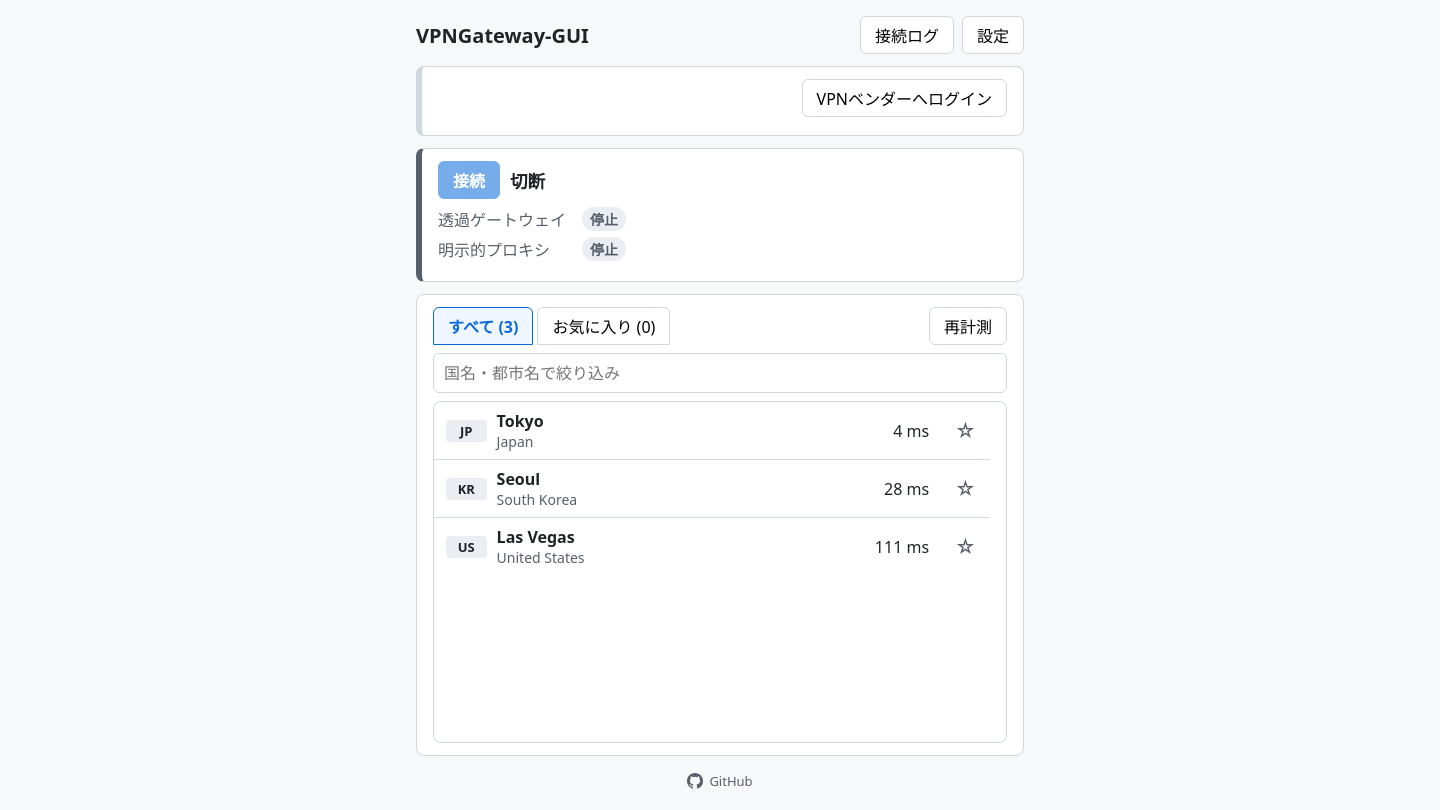
Test: App › リストで選択した接続先へlocationIdで接続し、APIが返す接続国（と接続先）を表示、切断で消える
Expected: the text "切断" is shown, [510,168,545,192]
Click the radio button labelled "US Las Vegas United States 111 ms": (466, 546) [434,518,941,575]
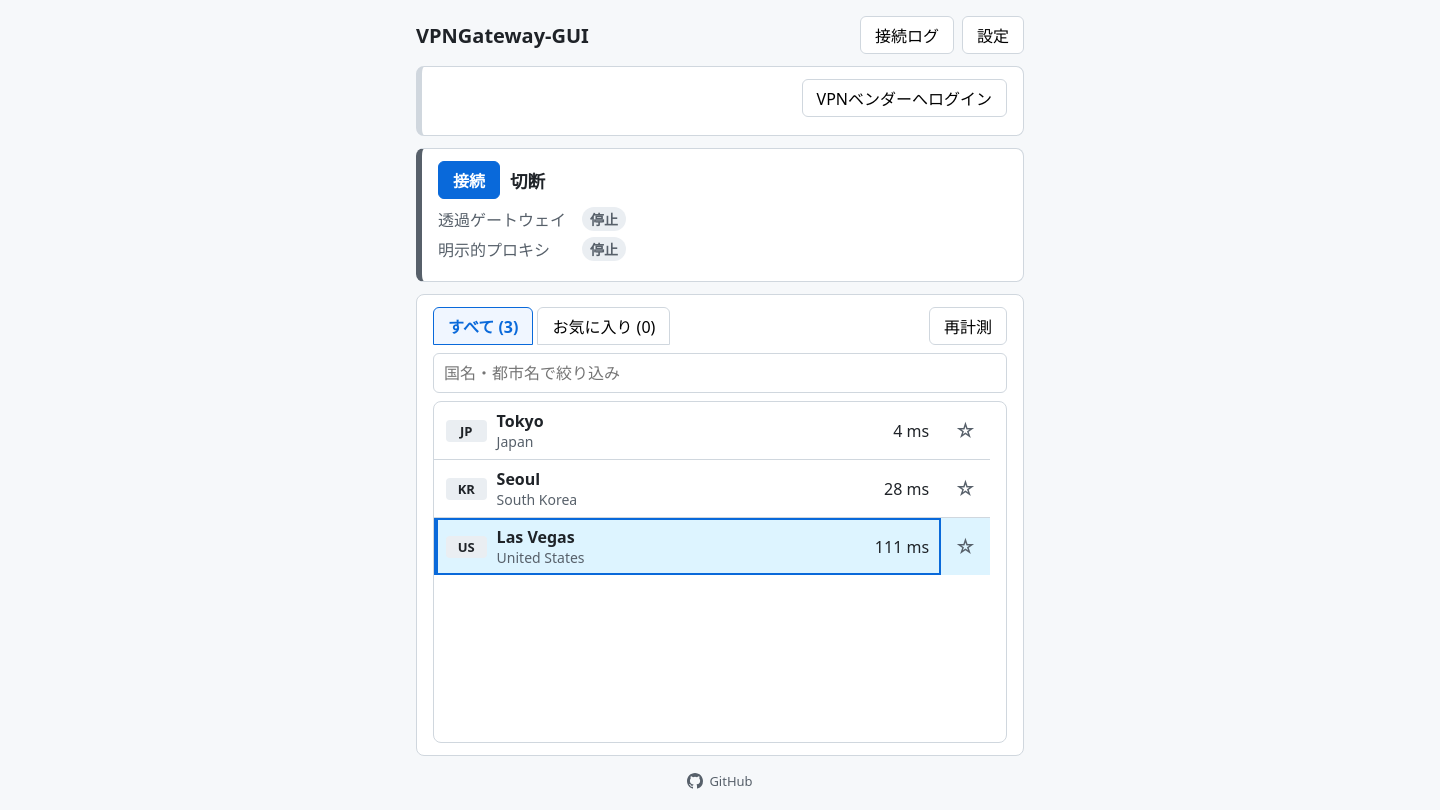
Click the button "接続": (469, 180) [438,161,500,199]
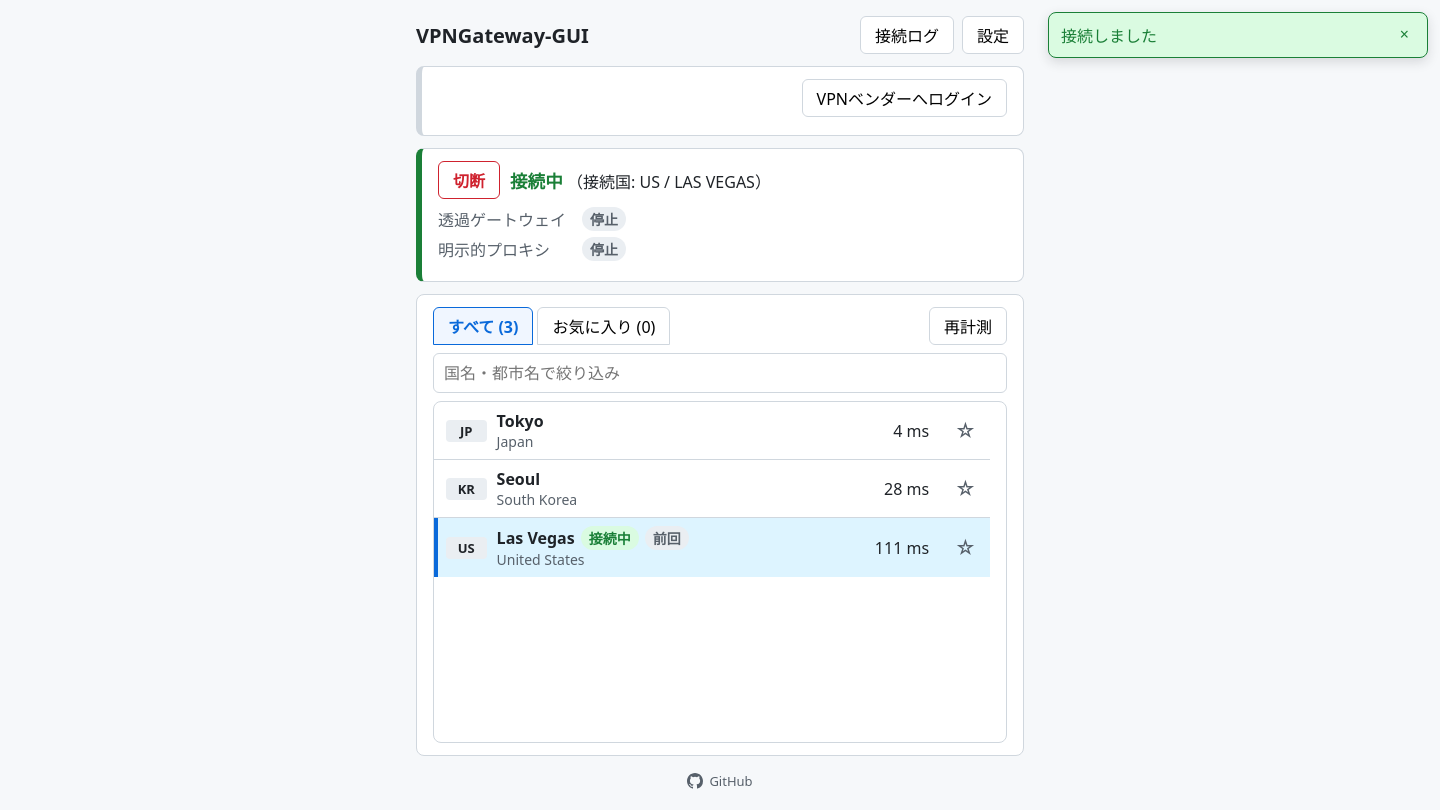
Expected: the text "（接続国: US / LAS VEGAS）" is shown, [563,170,771,192]
Expected: the message shows "接続しました", [1061,25,1157,47]
Expected: the list item "US Las Vegas 接続中 前回 United States 111 ms ☆" is shown, [434,518,990,577]
Click the button "切断": (469, 180) [438,161,500,199]
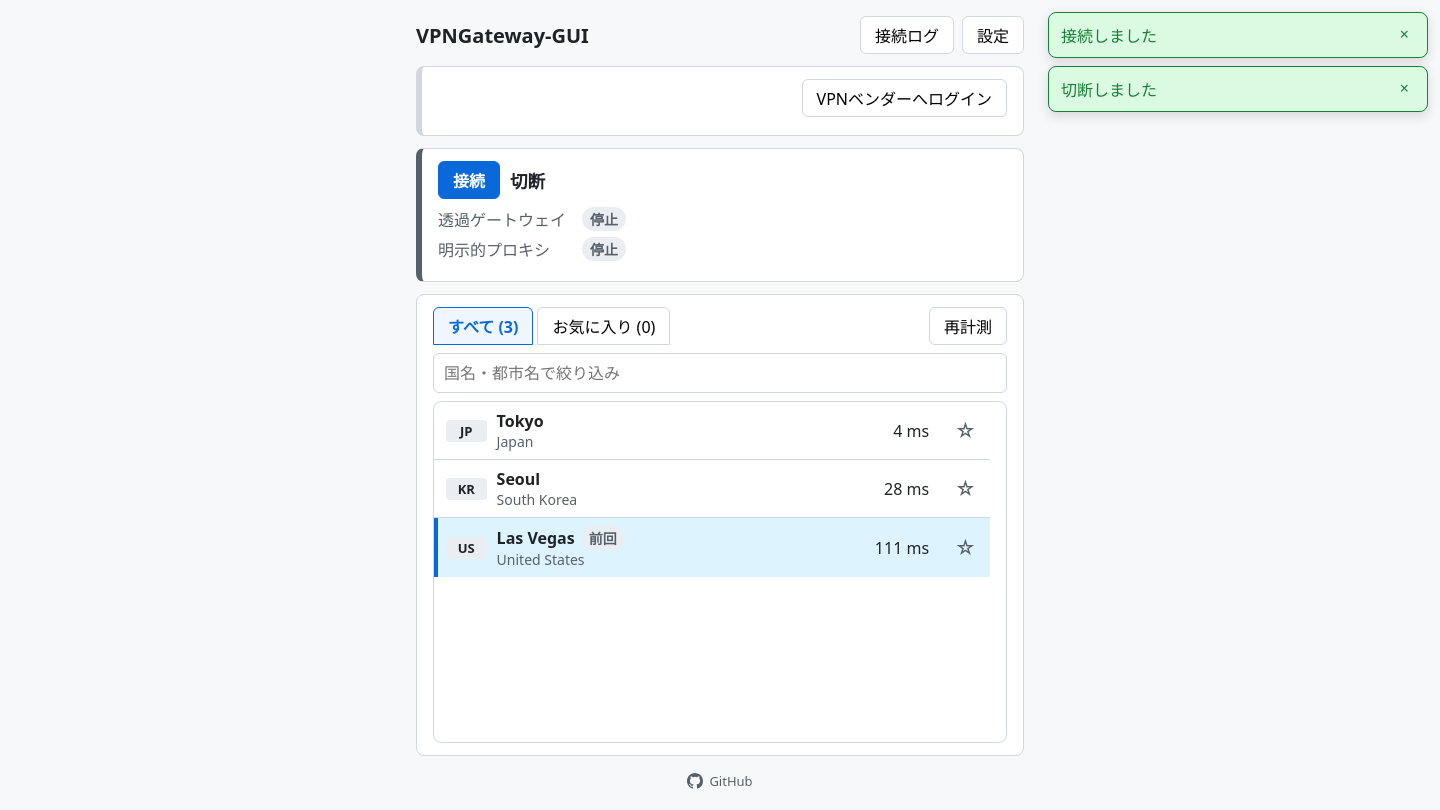
Expected: the list item "US Las Vegas 前回 United States 111 ms ☆" is shown, [434,518,990,577]
Expected: the text "接続国:" is gone
